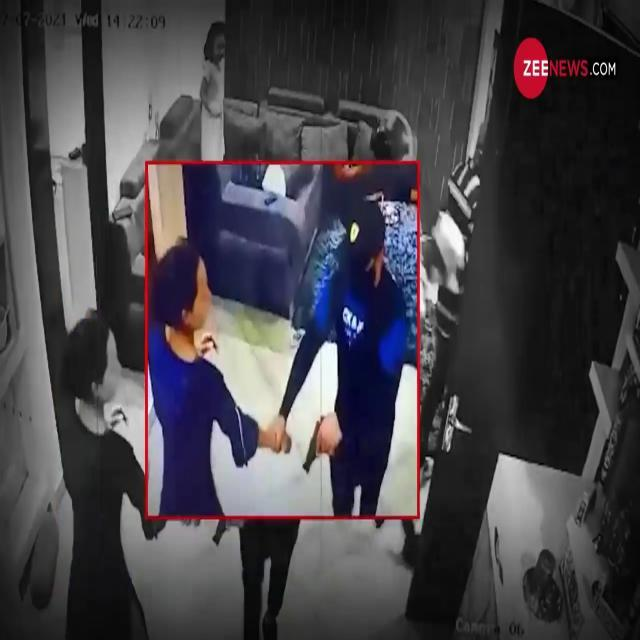weapon: (301, 418, 331, 476)
